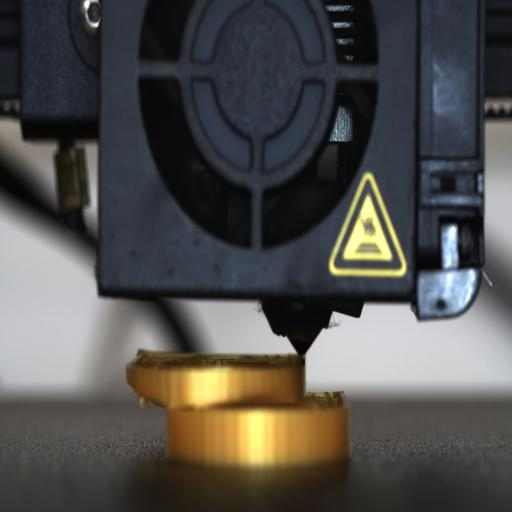layer_shift: (128, 388, 350, 414)
